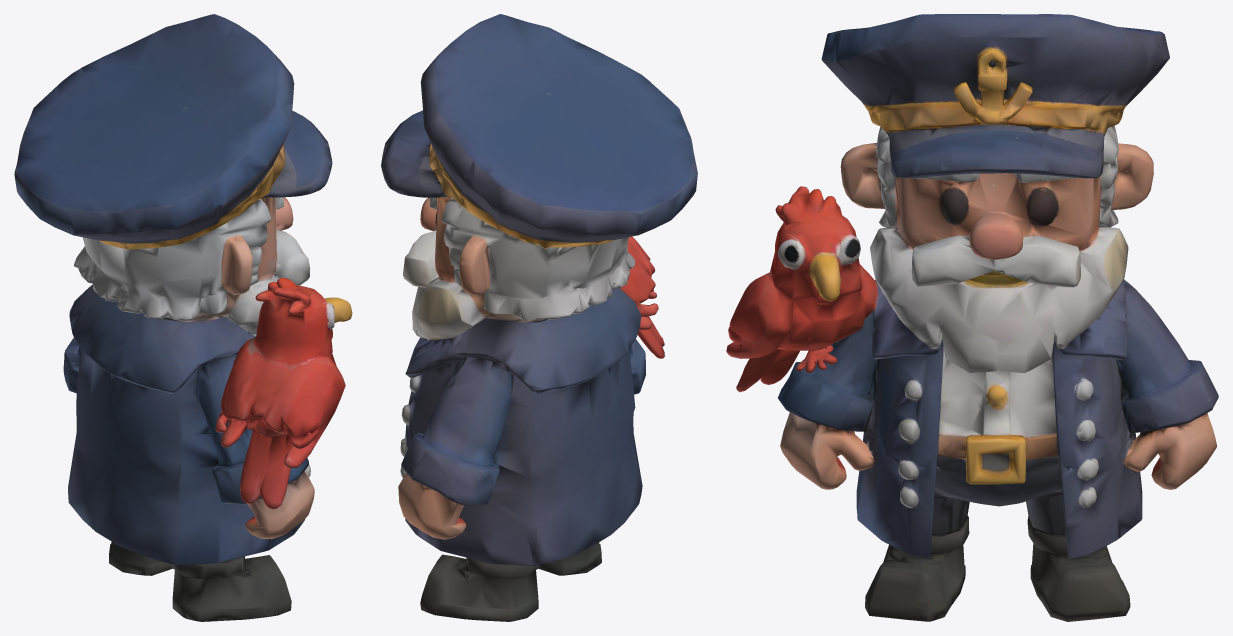
File: captain_static.glb
The picture shows the model from 3 angles, left to right: view 1: azimuth 30°, elevation 25°; view 2: azimuth 150°, elevation 25°; view 3: azimuth 270°, elevation 25°; orthographic projection. The views are drawn at different scales.
Parts seen in each view (by area): view 1: tripo_node_c021c8d7-0fde-4b60-90f3-bdc985ecef8e; view 2: tripo_node_c021c8d7-0fde-4b60-90f3-bdc985ecef8e; view 3: tripo_node_c021c8d7-0fde-4b60-90f3-bdc985ecef8e.
Boxes of the visible parts, <box> form: tripo_node_c021c8d7-0fde-4b60-90f3-bdc985ecef8e: <box>14,14,352,621</box>; tripo_node_c021c8d7-0fde-4b60-90f3-bdc985ecef8e: <box>381,14,697,621</box>; tripo_node_c021c8d7-0fde-4b60-90f3-bdc985ecef8e: <box>726,14,1218,621</box>.
Size of the model in its own units: 0.5421 by 0.9996 by 0.7301.
Materials: 1 (1 with a texture image).
